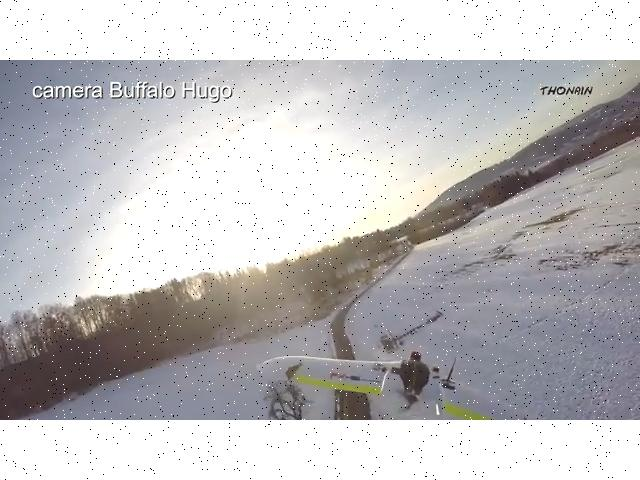Anti-Drone: (246, 332, 548, 419)
